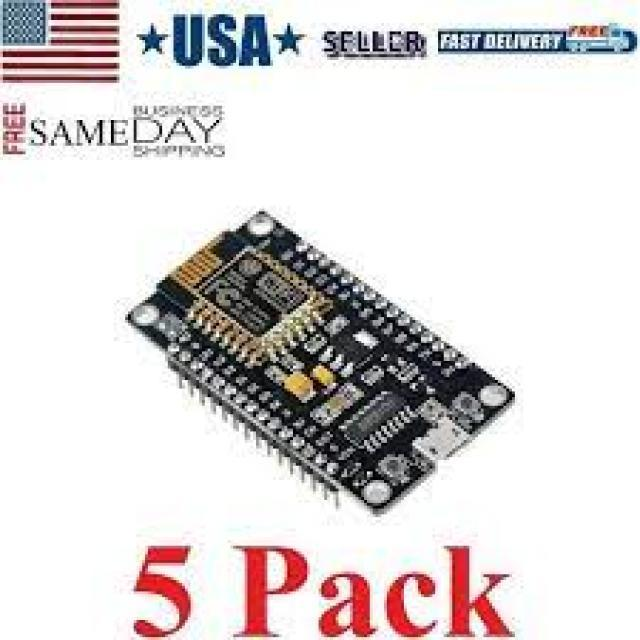Esp8266: (128, 212, 514, 512)
